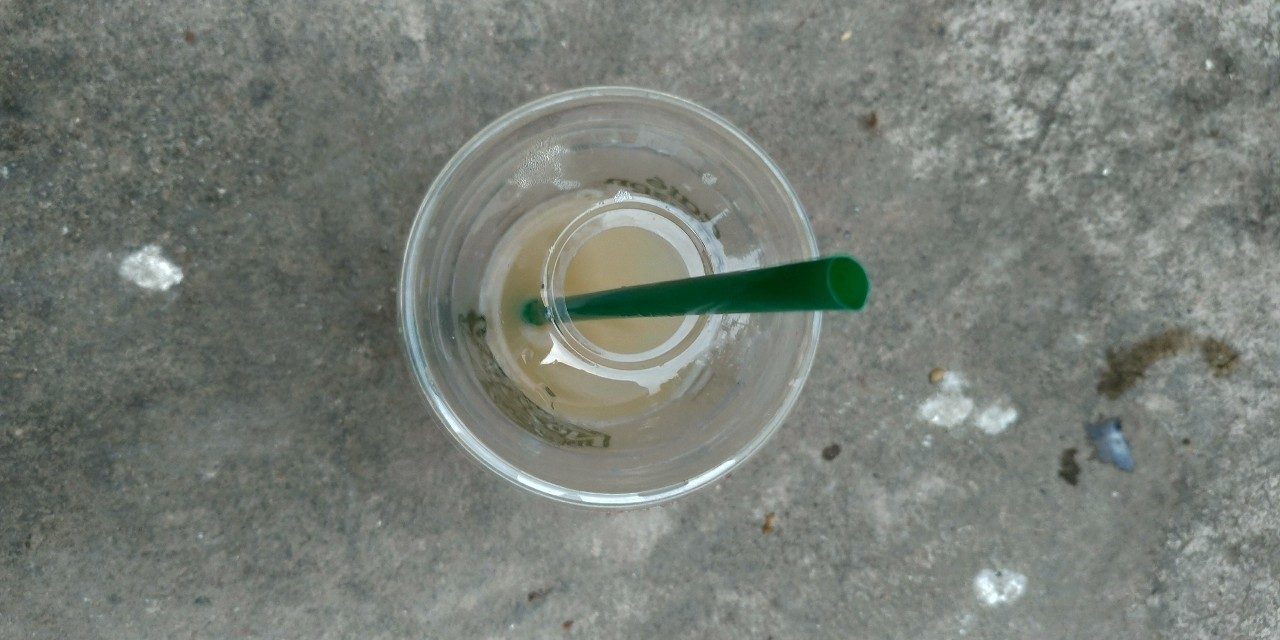PlasticCup: (397, 85, 834, 511)
